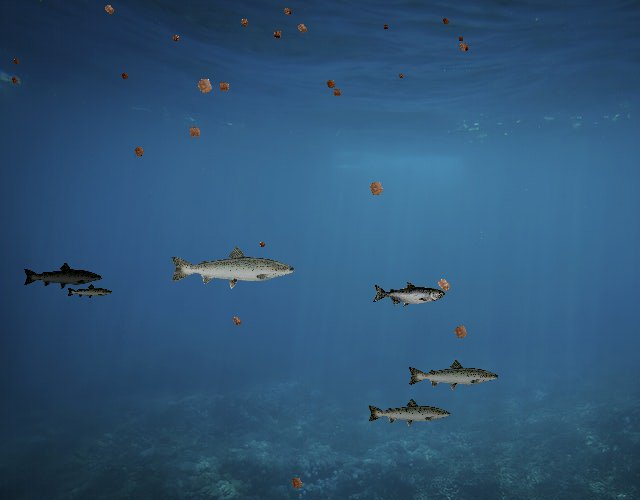Fish: (168, 244, 297, 290), (407, 359, 501, 393), (366, 397, 452, 428), (23, 261, 104, 291), (372, 281, 445, 308), (66, 283, 113, 300)
Pellet: (190, 70, 220, 100), (430, 271, 457, 298), (448, 319, 473, 345), (183, 121, 206, 144), (286, 472, 308, 494), (168, 31, 183, 46), (118, 69, 132, 83), (256, 238, 268, 250)
